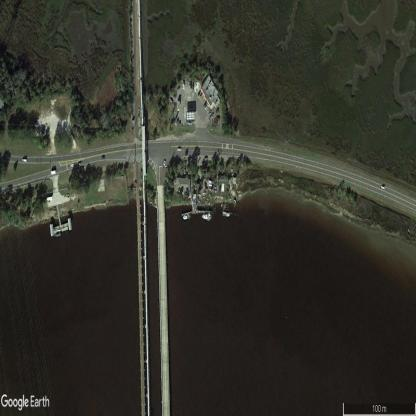ship: (202, 214, 212, 221), (222, 211, 230, 217), (183, 215, 190, 220)
